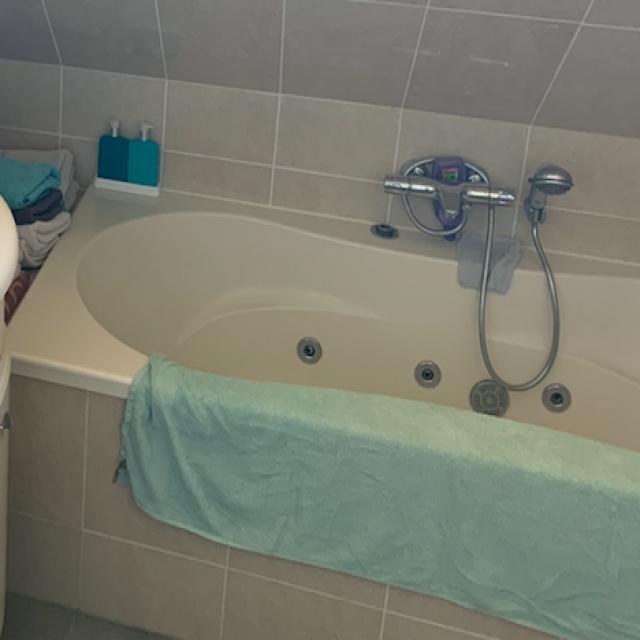bath: (9, 154, 640, 580)
